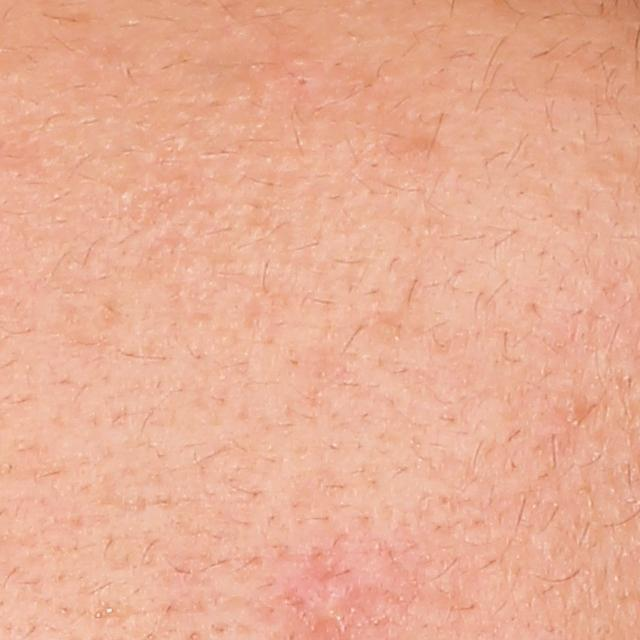comedo: (291, 71, 313, 91)
